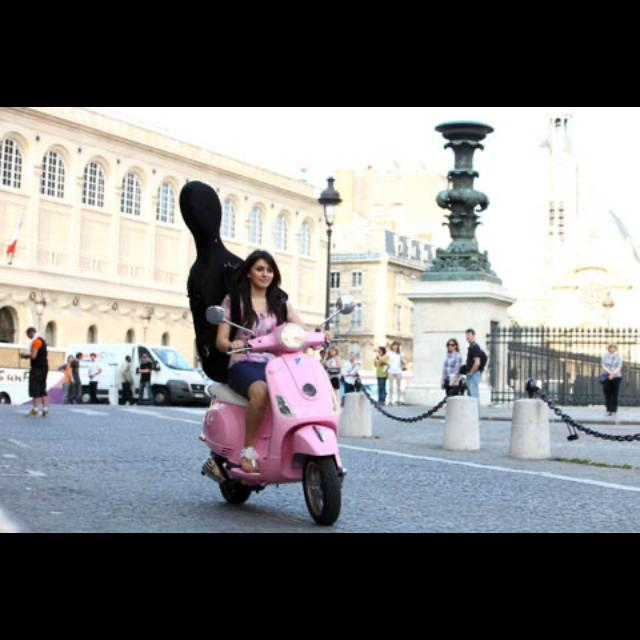Without Helmet: (232, 242, 286, 294)
